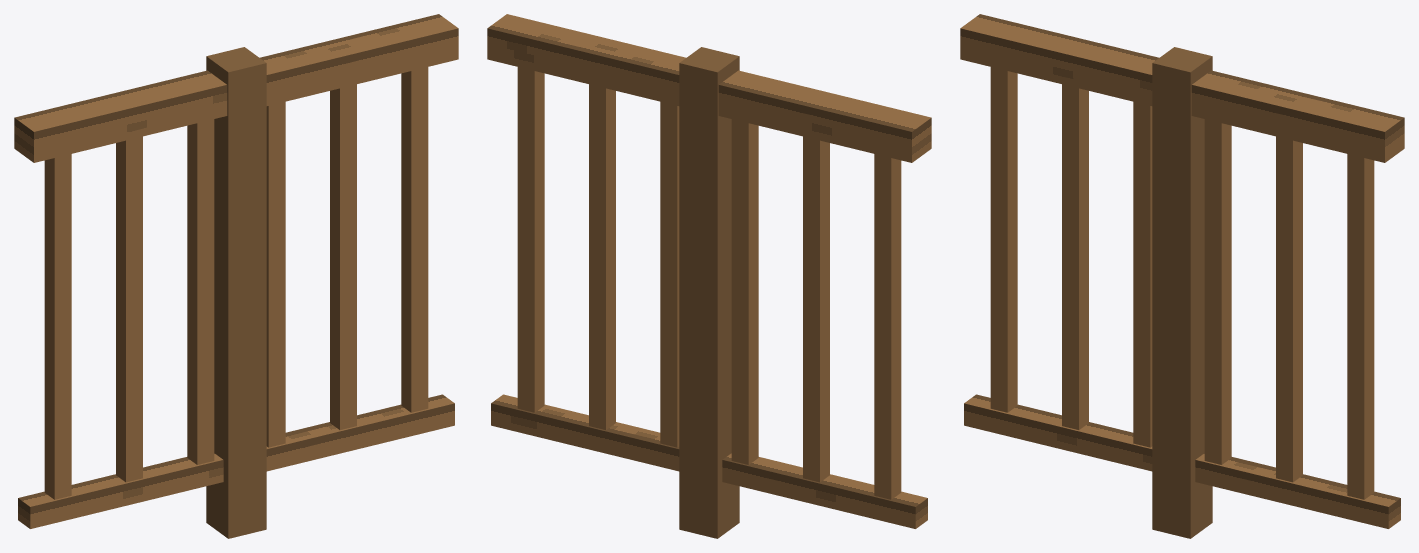
The model's file is t_railing.glb.
3 renders of one model, left to right at view 1: azimuth 30°, elevation 25°; view 2: azimuth 150°, elevation 25°; view 3: azimuth 330°, elevation 25°, orthographic.
Visible parts, largest first — view 1: block_post, block_top, block_bottom, block_spindle5, block_spindle0, block_spindle2, block_spindle1, block_spindle4, block_spindle3; view 2: block_post, block_top, block_bottom, block_spindle5, block_spindle0, block_spindle2, block_spindle1, block_spindle4, block_spindle3; view 3: block_post, block_top, block_bottom, block_spindle0, block_spindle3, block_spindle5, block_spindle1, block_spindle4, block_spindle2.
Boxes of the visible parts, x1,y1,x2,y2 form: block_post: (206,47,266,538); block_top: (14,14,458,162); block_bottom: (18,394,454,528); block_spindle5: (401,67,428,412); block_spindle0: (44,154,71,499); block_spindle2: (187,119,214,464); block_spindle1: (116,136,142,482); block_spindle4: (330,84,356,429); block_spindle3: (266,101,285,447); block_post: (679,47,739,538); block_top: (487,14,931,162); block_bottom: (491,394,927,528); block_spindle5: (517,67,544,412); block_spindle0: (874,154,901,499); block_spindle2: (731,119,758,464); block_spindle1: (803,136,829,482); block_spindle4: (589,84,615,429); block_spindle3: (660,101,679,447); block_post: (1152,47,1212,538); block_top: (960,14,1404,162); block_bottom: (964,394,1400,528); block_spindle0: (990,67,1017,412); block_spindle3: (1204,119,1231,464); block_spindle5: (1347,154,1374,499); block_spindle1: (1062,84,1088,429); block_spindle4: (1276,136,1302,482); block_spindle2: (1133,101,1152,447).
Bounding box in the file's own units: 1 × 1.05 × 0.09.
1 material, 1 textured.
